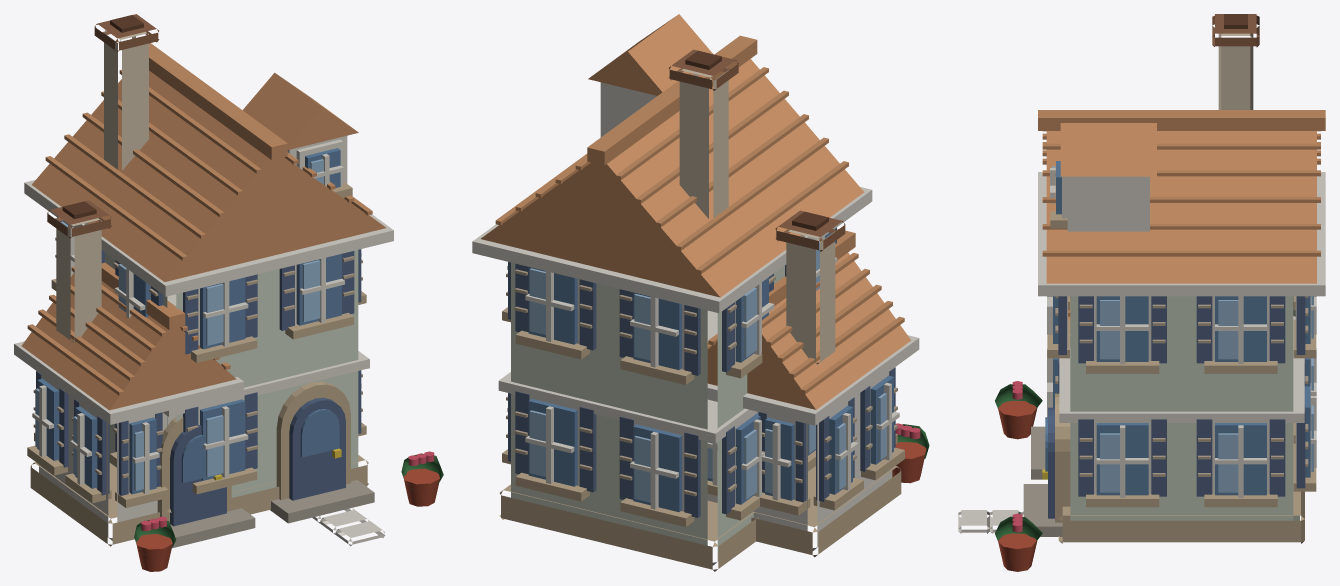
The model's file is house-b.glb.
3 renders of one model, left to right at view 1: azimuth 30°, elevation 25°; view 2: azimuth 150°, elevation 25°; view 3: azimuth 270°, elevation 25°, orthographic. The views are drawn at different scales.
Visible parts, largest first — view 1: house-b; view 2: house-b; view 3: house-b.
Boxes of the visible parts, bbox=[...] form: house-b: bbox=[14, 14, 443, 571]; house-b: bbox=[472, 14, 929, 571]; house-b: bbox=[958, 14, 1325, 571].
Size of the model in its own units: 0.86 by 1.16 by 0.8482.
